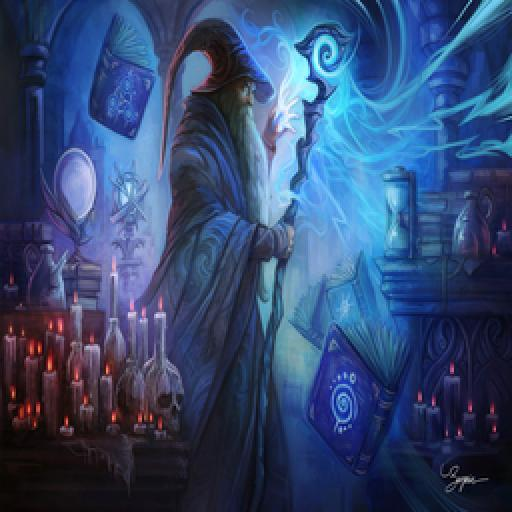wizards: (164, 18, 336, 498)
